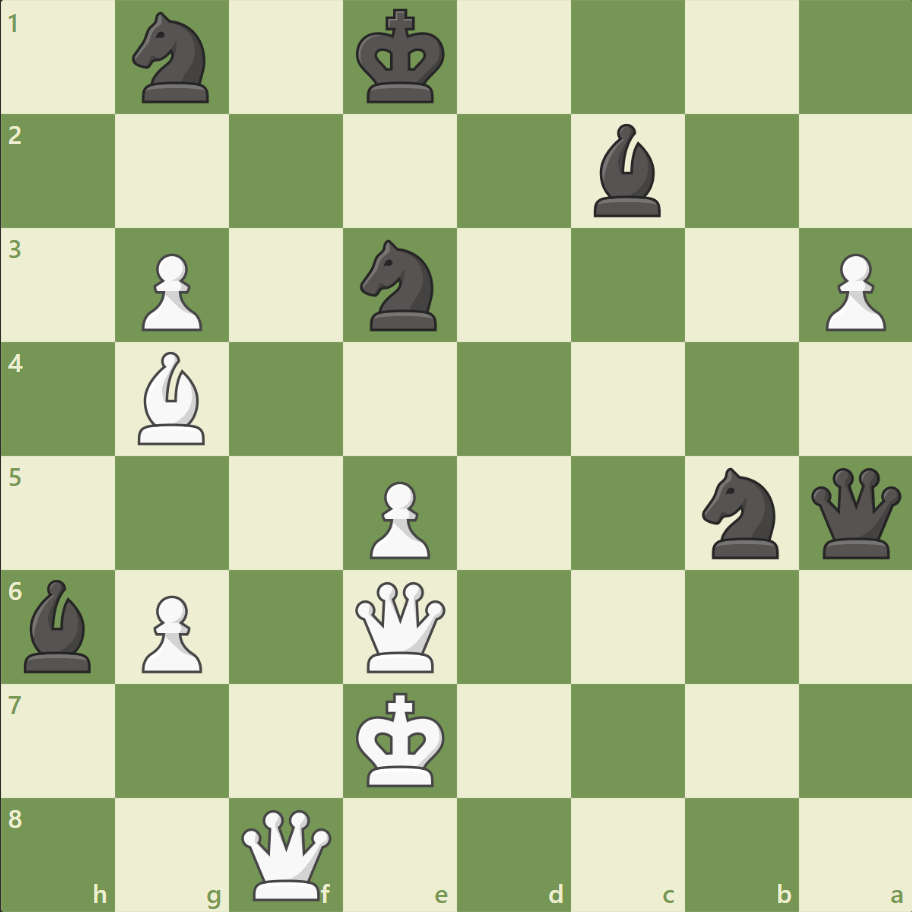B: (131, 347, 215, 449)
K: (351, 685, 451, 793)
P: (133, 586, 208, 677), (133, 246, 208, 337), (361, 473, 435, 564), (815, 246, 889, 337)
Q: (351, 576, 450, 676), (237, 804, 336, 903)
b: (17, 574, 101, 676), (585, 120, 669, 222)
k: (351, 4, 451, 112)
n: (351, 234, 449, 337), (124, 7, 222, 110), (692, 461, 789, 564)
q: (805, 463, 904, 562)
